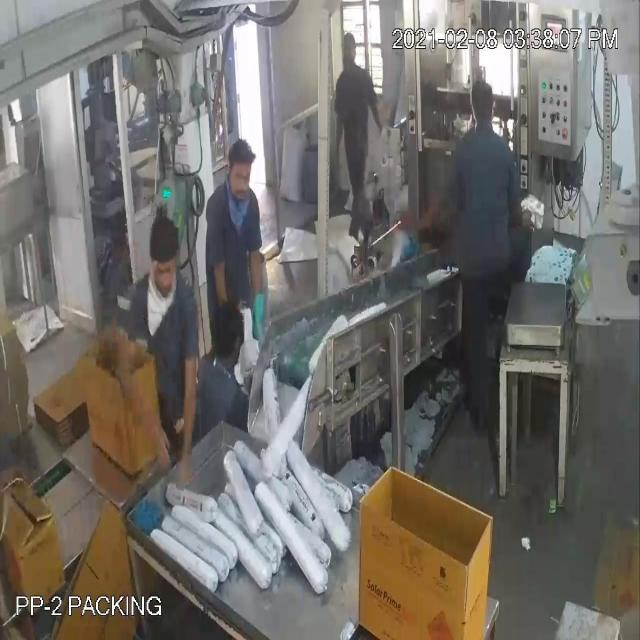No_Gloves: (24, 112, 263, 426)
